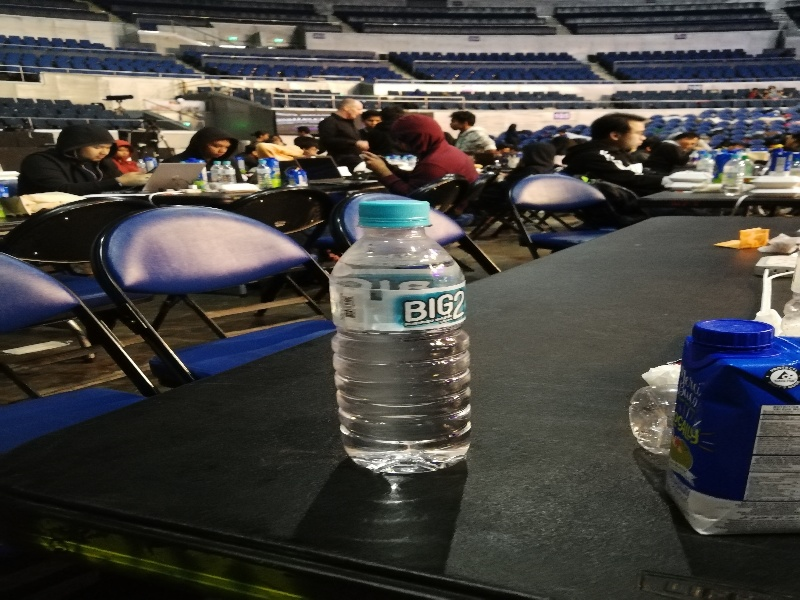PET #1: (328, 199, 481, 482)
